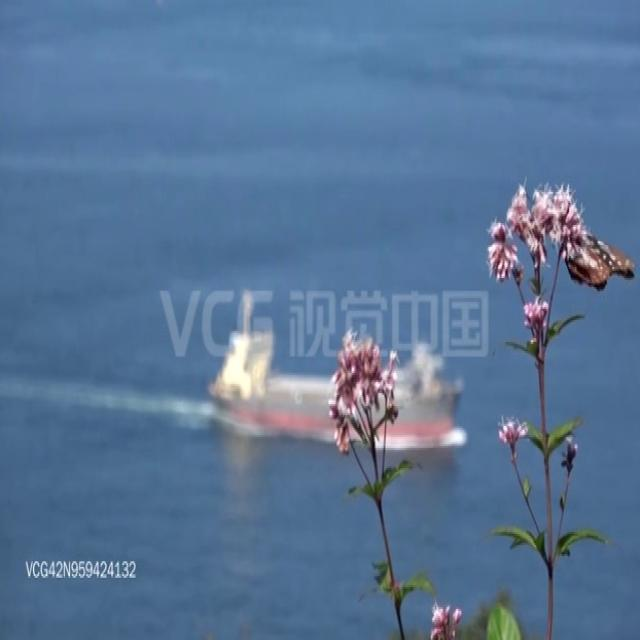cargoship: (209, 283, 472, 454)
